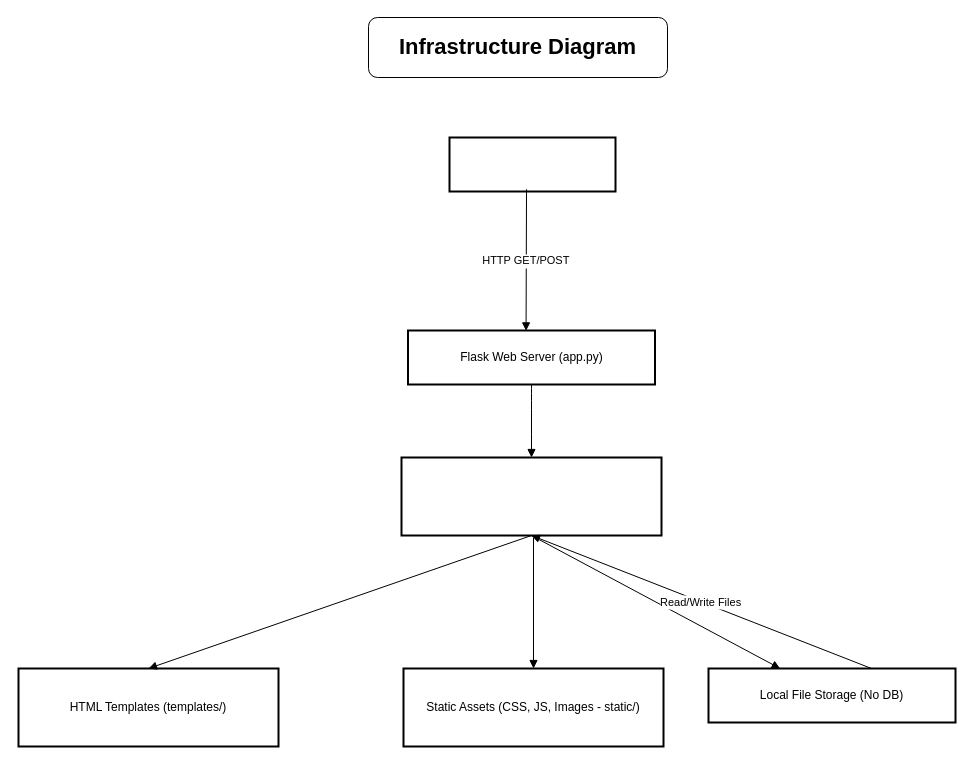
This 973x765 diagram has some shape labels left out. The centre of each missing label's shape, as x and y in pixels:
Routing Logic (Flask Routes): the point at 531,496
User (Browser): the point at 532,164
